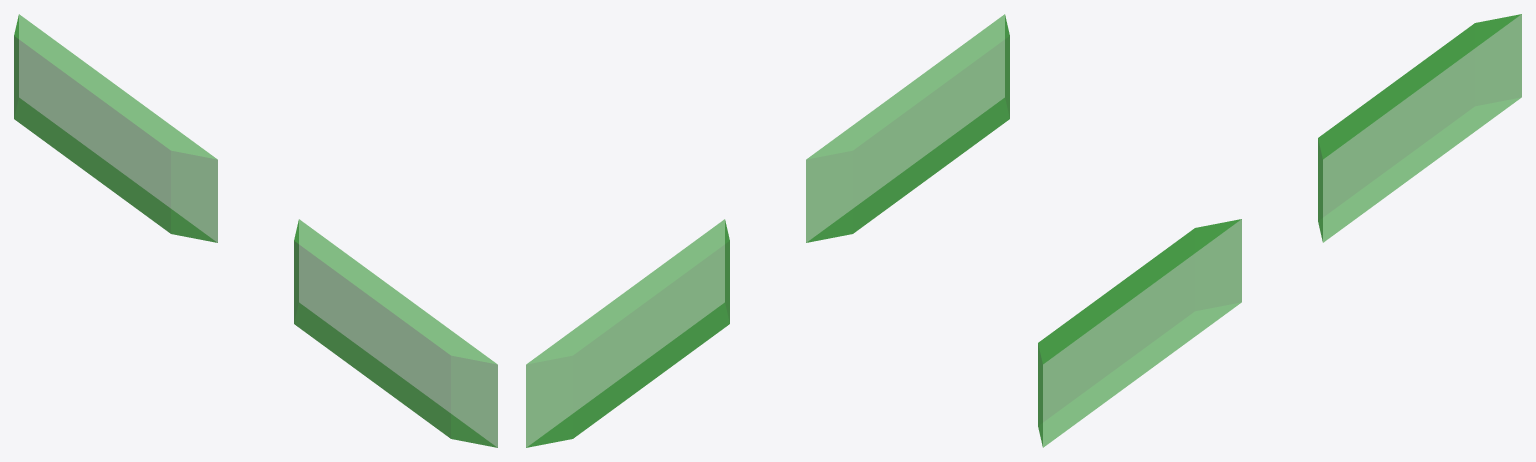
Rendered from D09_light01.obj.
3 views of the same model, side by side, from view 1: azimuth 30°, elevation 25°; view 2: azimuth 150°, elevation 25°; view 3: azimuth 330°, elevation 25° (orthographic).
Bounding box in the file's own units: 0.75 × 2.3 × 23.95.
